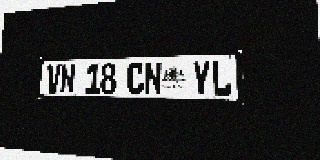1: (85, 63, 101, 94)
8: (100, 63, 117, 94)
C: (127, 62, 144, 95)
L: (212, 60, 232, 96)
N: (144, 62, 162, 95), (60, 64, 75, 94)
V: (46, 64, 61, 93)
Y: (192, 60, 211, 96)
